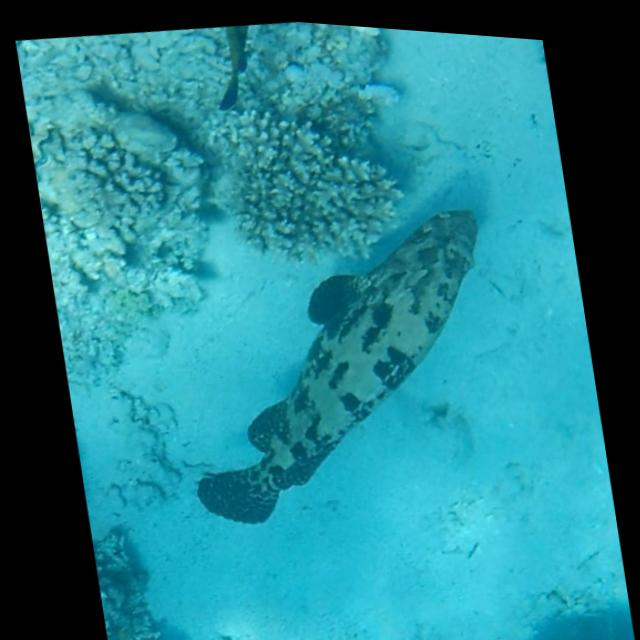Groupers: (158, 185, 524, 551)
